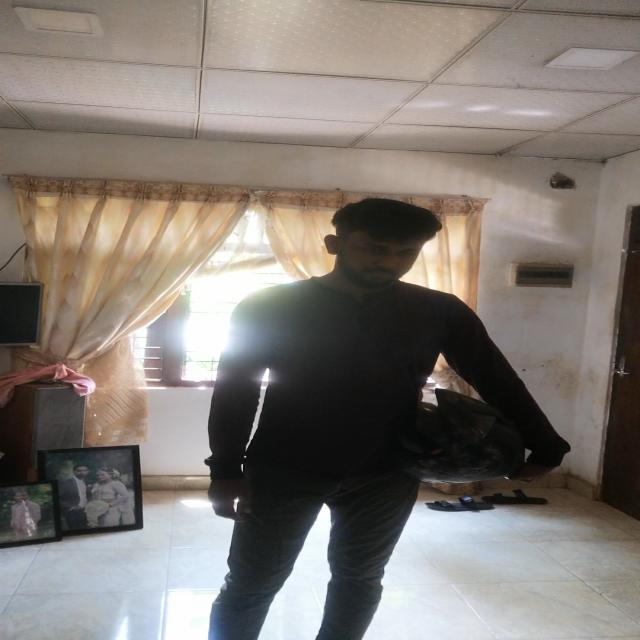Person: (203, 183, 558, 640)
